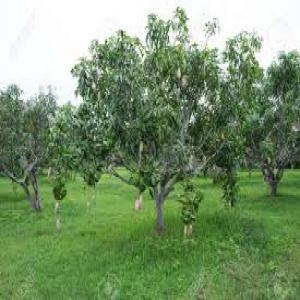Tree: (72, 3, 265, 235), (0, 77, 56, 220), (253, 46, 298, 200)
